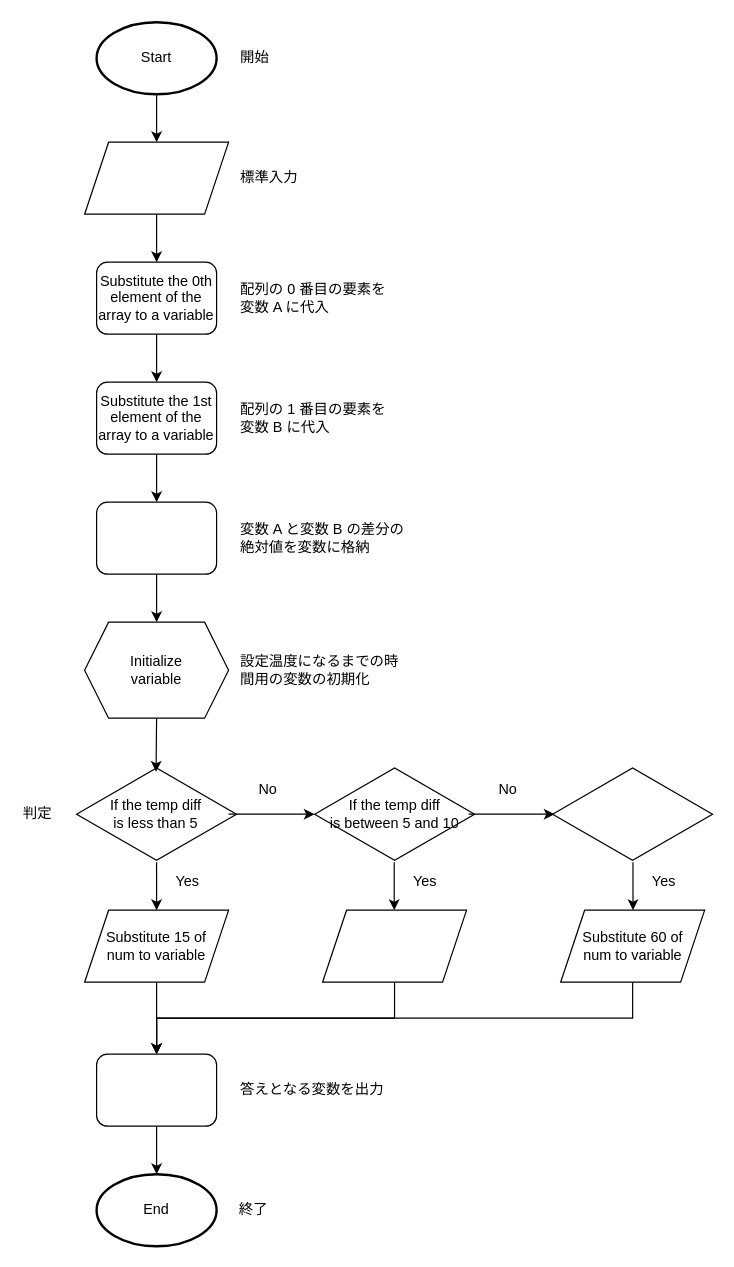
This 734x1267 diagram has some shape labels left out. Each missing label, with the centre of its shape:
"If the temp diff is more than 10" belongs at point 632,813.
"Output the variable of answer" belongs at point 156,1089.
"Stdin" belongs at point 156,177.
"Store the absolute numeric of the diff in a variable" belongs at point 156,537.
"Substitute 30 of num to variable" belongs at point 394,945.
